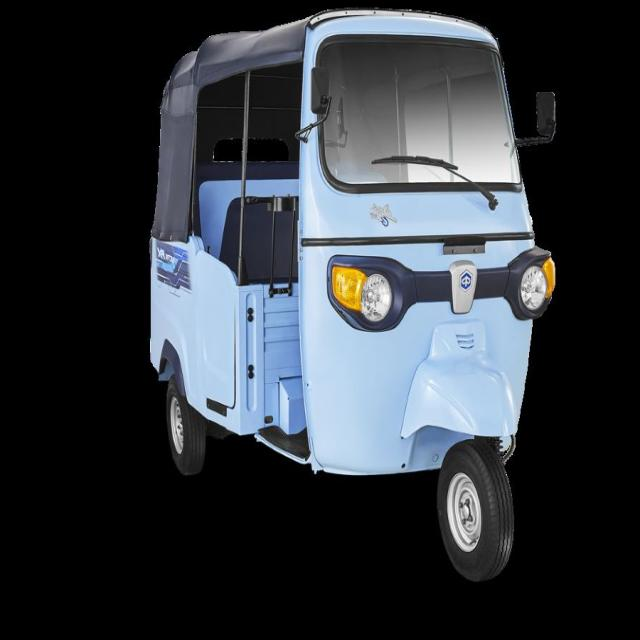autorickshaw: (151, 10, 555, 580)
